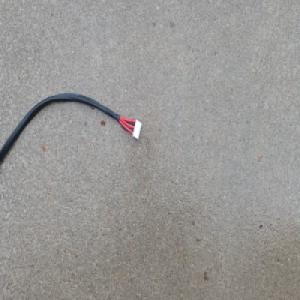Wire: (0, 91, 143, 169)
